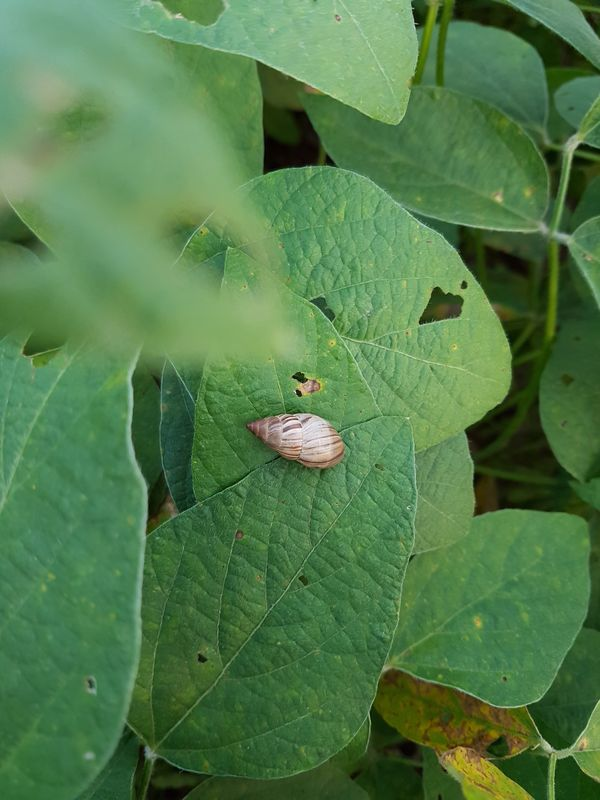Gastropoda: (237, 394, 359, 489)
